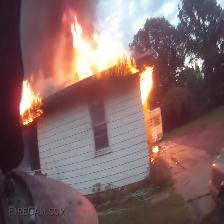fire: (69, 19, 117, 73), (126, 55, 155, 100), (18, 83, 45, 122)
smoke: (21, 1, 62, 69)
